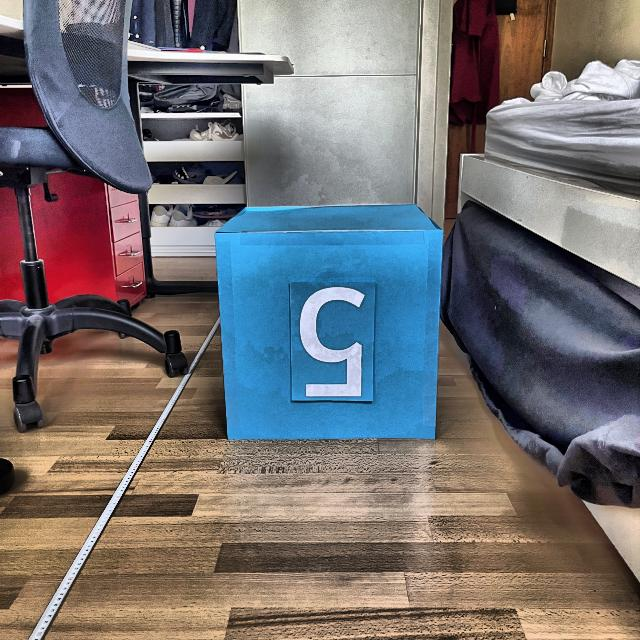blue box: (212, 196, 449, 445)
five: (296, 284, 370, 401)
